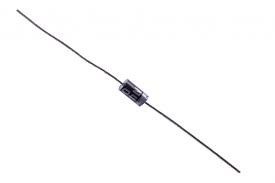diode: (102, 67, 175, 122)
